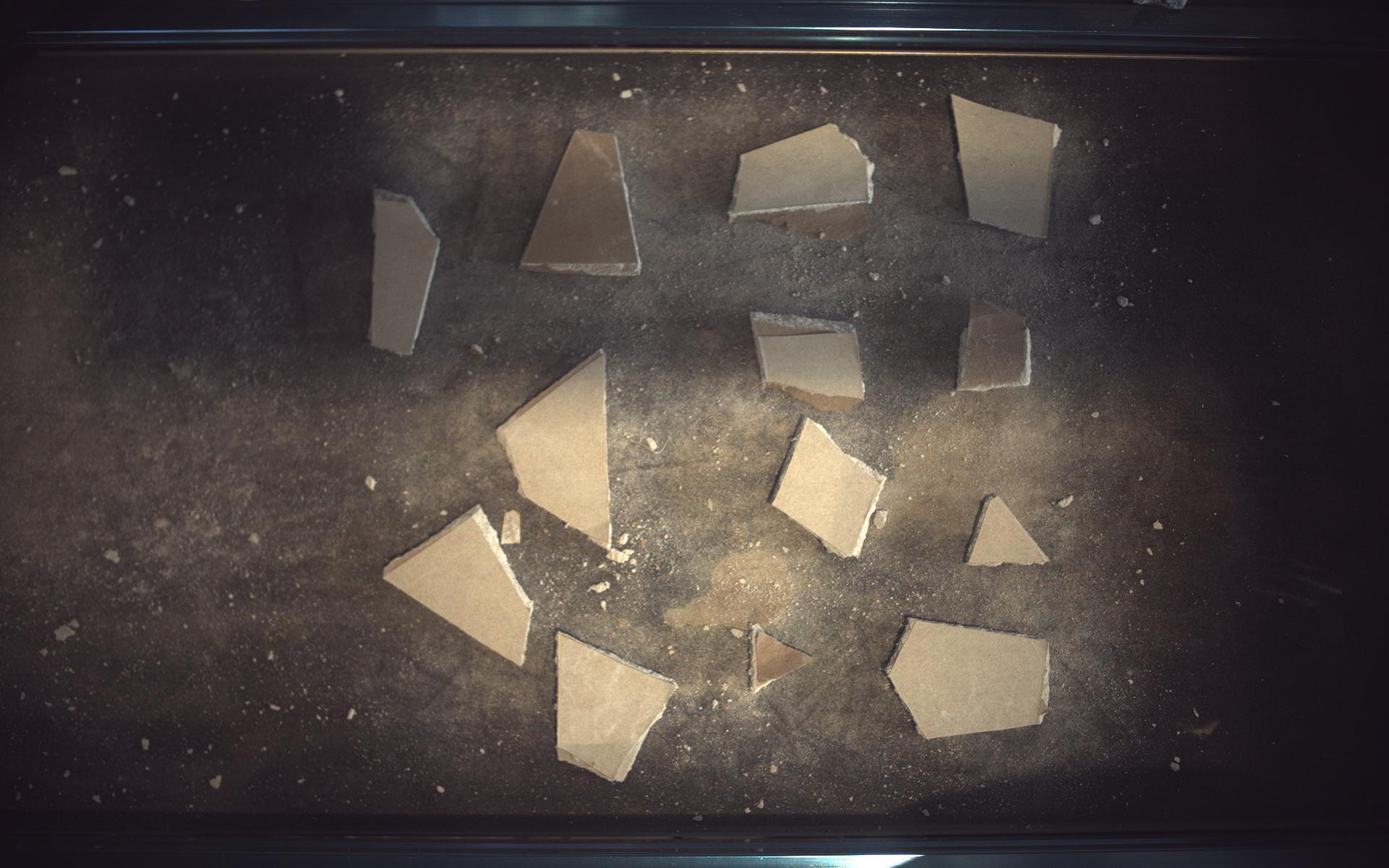gypsum_board: (383, 506, 534, 666), (497, 349, 612, 549), (888, 619, 1052, 740), (558, 632, 679, 783), (521, 128, 642, 276), (731, 123, 876, 239), (772, 417, 888, 558), (954, 93, 1063, 237), (369, 188, 440, 355), (752, 312, 867, 411), (959, 297, 1033, 391), (968, 496, 1051, 566), (751, 625, 815, 694)
